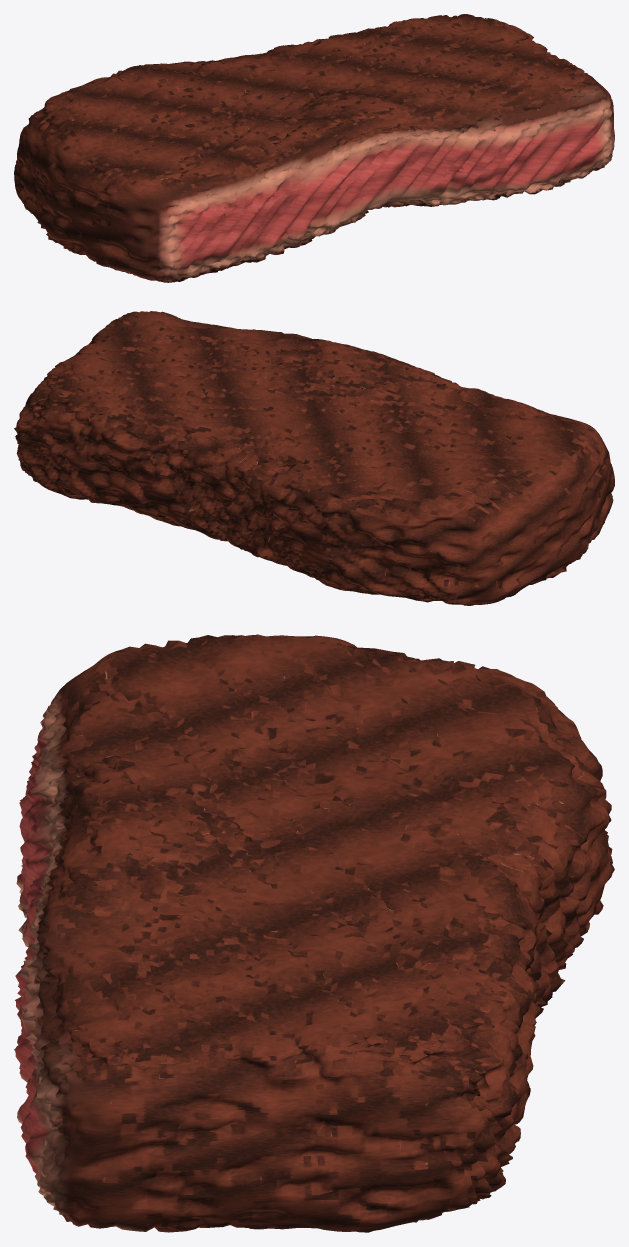
File: Steakmodel2.glb
3 renders of one model, top to bottom at view 1: azimuth 30°, elevation 25°; view 2: azimuth 150°, elevation 25°; view 3: azimuth 270°, elevation 25°, orthographic. The views are drawn at different scales.
Parts seen in each view (by area): view 1: Cube; view 2: Cube; view 3: Cube.
Boxes of the visible parts, x1,y1,x2,y2 form: Cube: [14, 14, 614, 282]; Cube: [14, 311, 614, 605]; Cube: [14, 634, 614, 1232].
Size of what is drawn, in the model's own units: 4.37 by 0.9383 by 2.42.
Materials: 1 (1 with a texture image).
